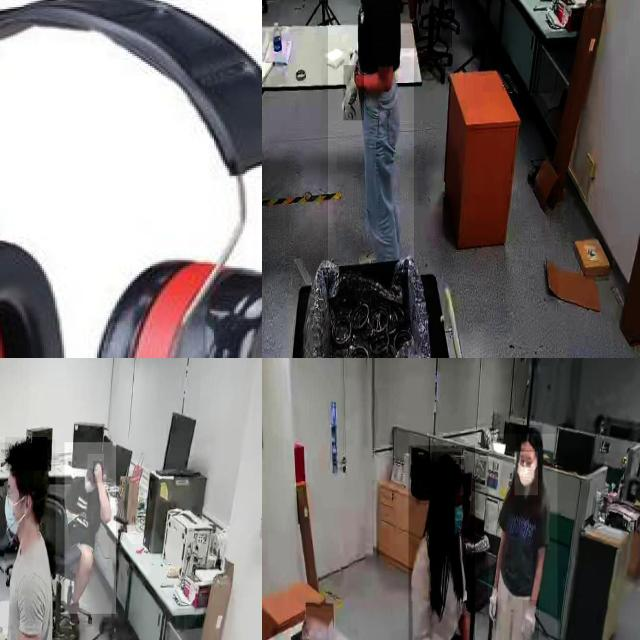Ear-protection: (83, 254, 262, 358)
face_mask: (0, 493, 22, 545), (444, 495, 470, 538), (514, 452, 538, 495)
hand_glove: (344, 65, 364, 121), (522, 600, 539, 640), (489, 581, 501, 631)
hand_noglove: (93, 461, 103, 484)
head_nohelmet: (5, 437, 48, 471), (432, 452, 462, 476), (516, 425, 543, 447), (88, 454, 104, 469)
person: (327, 0, 414, 273), (488, 433, 557, 640), (408, 445, 475, 640), (0, 439, 55, 640), (65, 442, 116, 615), (399, 0, 452, 48)
